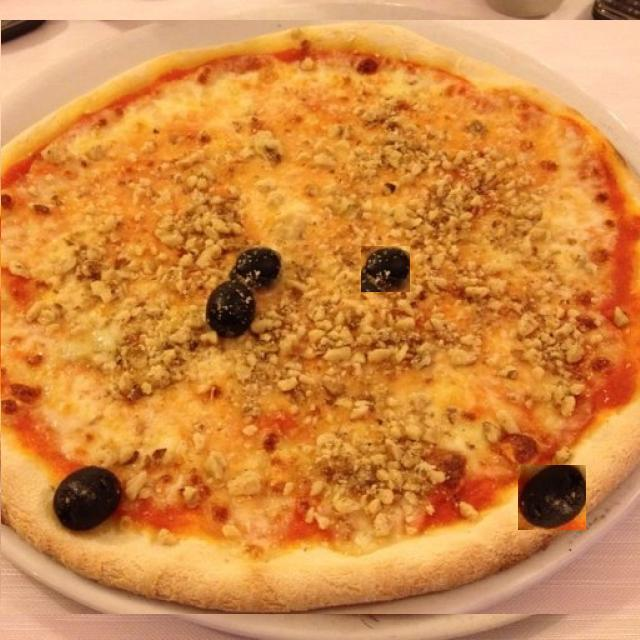olive: (518, 465, 586, 530), (386, 281, 436, 339), (361, 246, 410, 292)
pizza: (1, 20, 640, 614)
